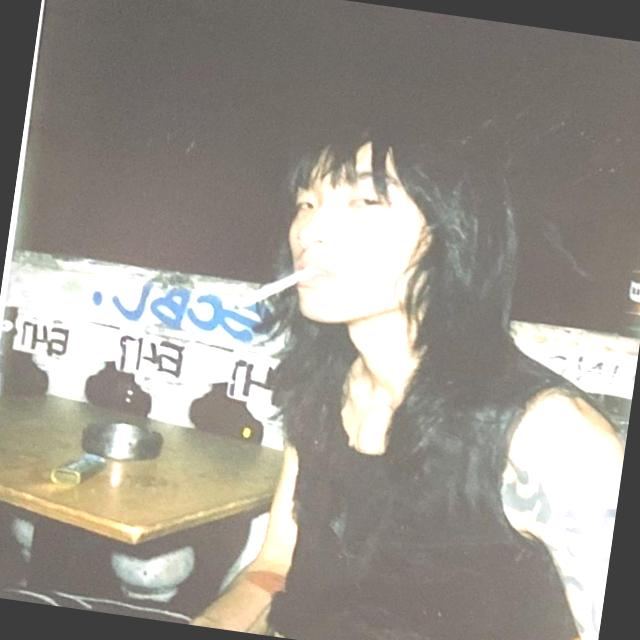cigarette: (219, 246, 336, 332)
